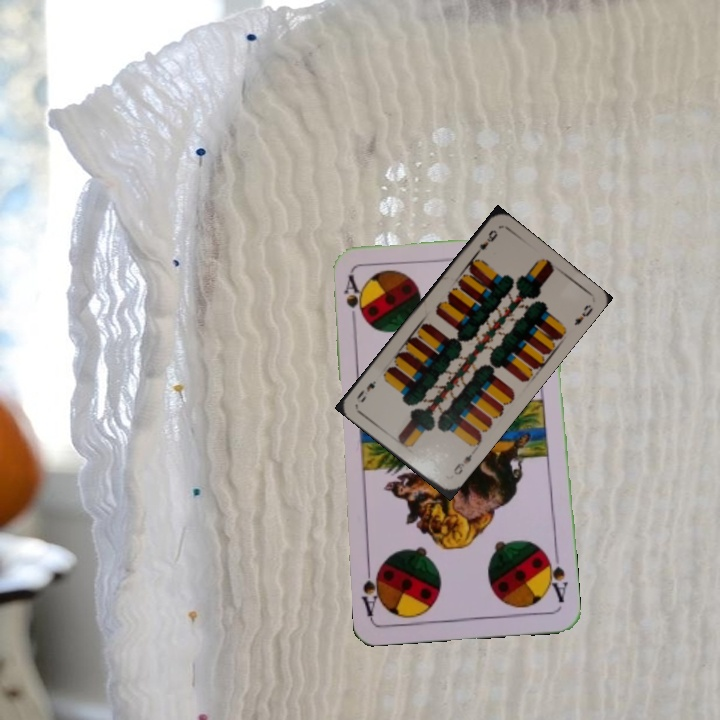E9: (471, 226, 500, 259), (449, 450, 475, 478)
SA: (541, 548, 571, 605), (340, 271, 366, 330)
